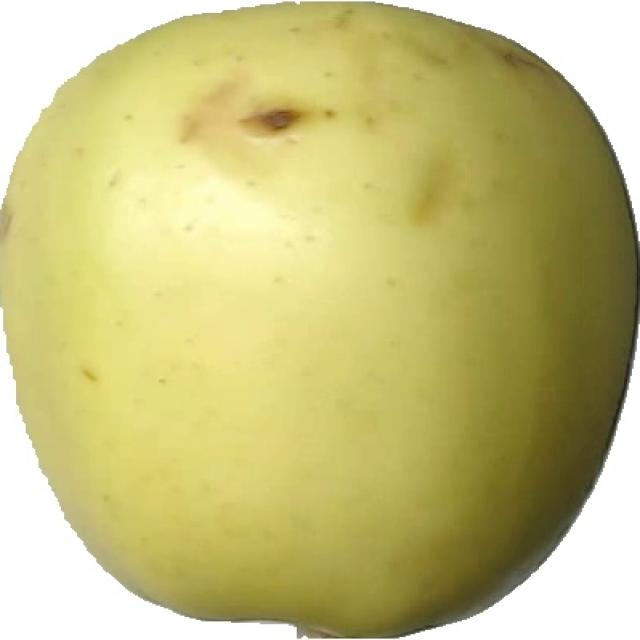Golden Elma: (0, 0, 640, 640), (0, 4, 638, 639)
